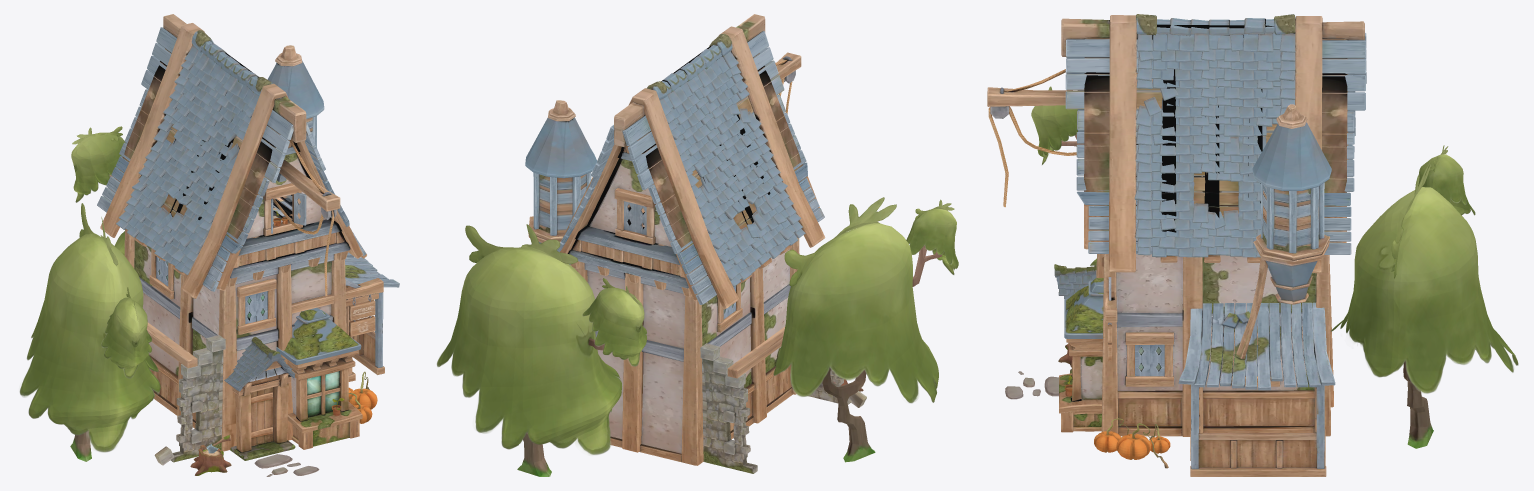
Rendered from BLD_HouseA.glb.
The picture shows the model from 3 angles, left to right: view 1: azimuth 30°, elevation 25°; view 2: azimuth 150°, elevation 25°; view 3: azimuth 270°, elevation 25°; orthographic projection. The views are drawn at different scales.
Visible parts, largest first — view 1: House_H6_0, Tree_tree_0, House_H4_0, House_H2_0, House_H5_0, House_H3_0, House_H7_0, House_H1_0, Rope_Rope_0, pump_pumk_0, souche hache_souche_0, R 5_Stone_0; view 2: Tree_tree_0, House_H6_0, House_H5_0, House_H4_0, House_H7_0, House_H1_0, Rope_Rope_0; view 3: House_H6_0, House_H1_0, Tree_tree_0, House_H5_0, House_H4_0, House_H2_0, Rope_Rope_0, pump_pumk_0, House_H3_0, R 5_Stone_0.
Part boxes in pixels (x1,y1,x2,y2): House_H6_0: (97, 14, 366, 298); Tree_tree_0: (19, 126, 160, 461); House_H4_0: (124, 205, 383, 451); House_H2_0: (276, 307, 362, 449); House_H5_0: (134, 198, 331, 420); House_H3_0: (224, 337, 295, 460); House_H7_0: (146, 322, 225, 465); House_H1_0: (267, 45, 399, 381); Rope_Rope_0: (238, 140, 340, 296); pump_pumk_0: (348, 371, 377, 423); souche hache_souche_0: (190, 445, 231, 475); R 5_Stone_0: (254, 454, 319, 476); Tree_tree_0: (437, 197, 958, 476); House_H6_0: (557, 14, 825, 309); House_H5_0: (587, 228, 791, 453); House_H4_0: (574, 208, 799, 465); House_H7_0: (700, 326, 866, 473); House_H1_0: (525, 100, 596, 264); Rope_Rope_0: (581, 52, 801, 275); House_H6_0: (1061, 14, 1366, 273); House_H1_0: (1178, 104, 1335, 476); Tree_tree_0: (1031, 86, 1518, 448); House_H5_0: (1116, 216, 1316, 426); House_H4_0: (1096, 176, 1333, 436); House_H2_0: (1059, 278, 1103, 432); Rope_Rope_0: (987, 69, 1083, 207); pump_pumk_0: (1094, 418, 1170, 468); House_H3_0: (1054, 264, 1096, 373); R 5_Stone_0: (1005, 371, 1058, 399).
Size of what is drawn, in the model's own units: 6.41 by 5.49 by 6.67.
14 materials, 14 textured.
